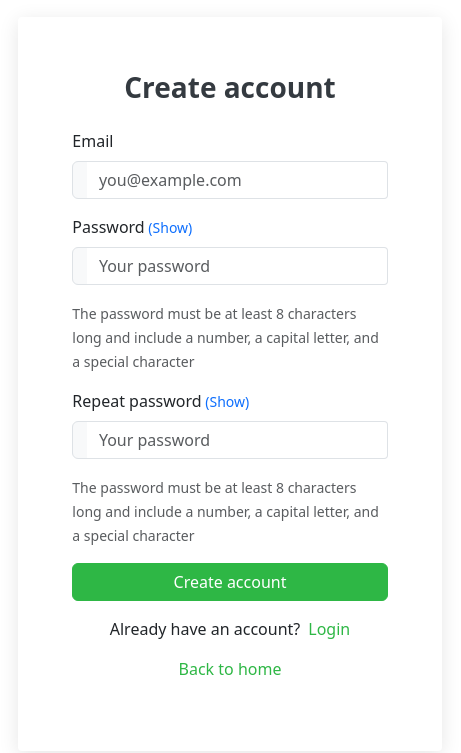
Test case: LoginForm Component test › should display success message for "register" prefix after successful submission
This screenshot has width=461, height=753.
Step 1. Type "test@example.com" into the field with test id "register_email_input" → coordinates (237, 180), box [87,161,388,199]
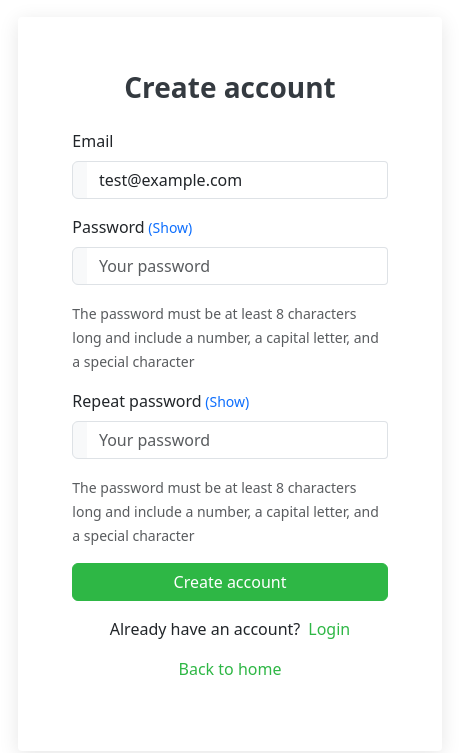
Step 2. Type "password123" into the password field with test id "account-password-login" → coordinates (237, 266), box [87,247,388,285]
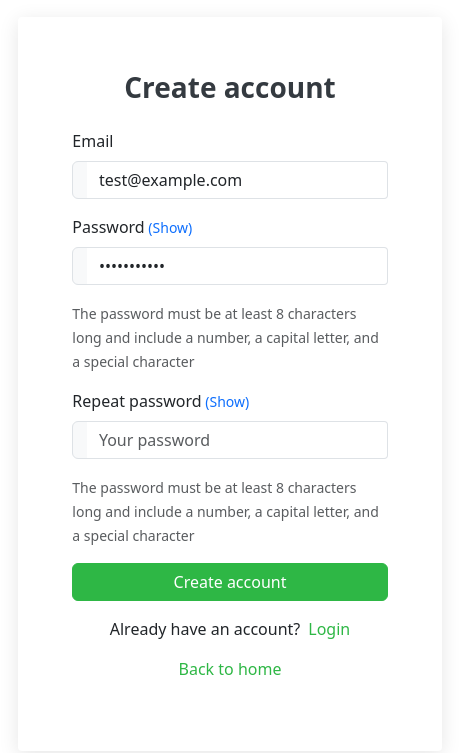
Step 3. Type "password123" into the password field with test id "account-repeat-password-register" → coordinates (237, 440), box [87,421,388,459]
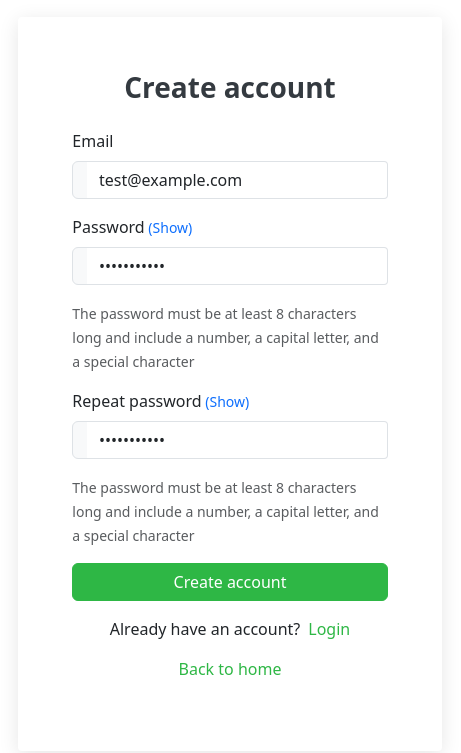
Step 4. Click the button "Create account" → coordinates (230, 582), box [72,563,388,601]
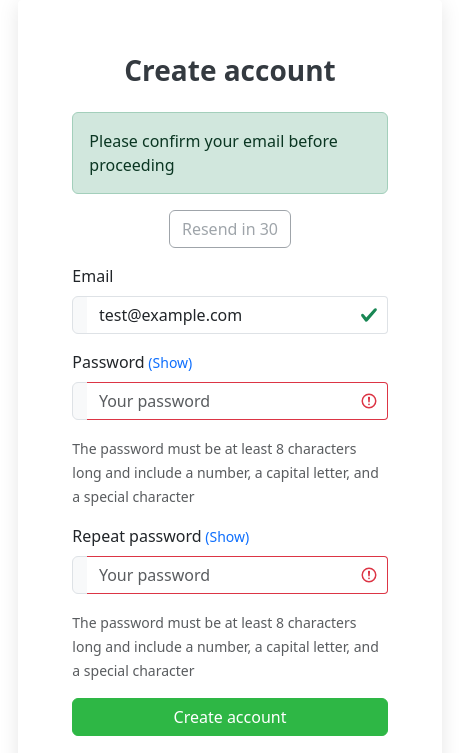
Check: the text "Please confirm your email before proceeding" is shown, box [72,112,388,194]
